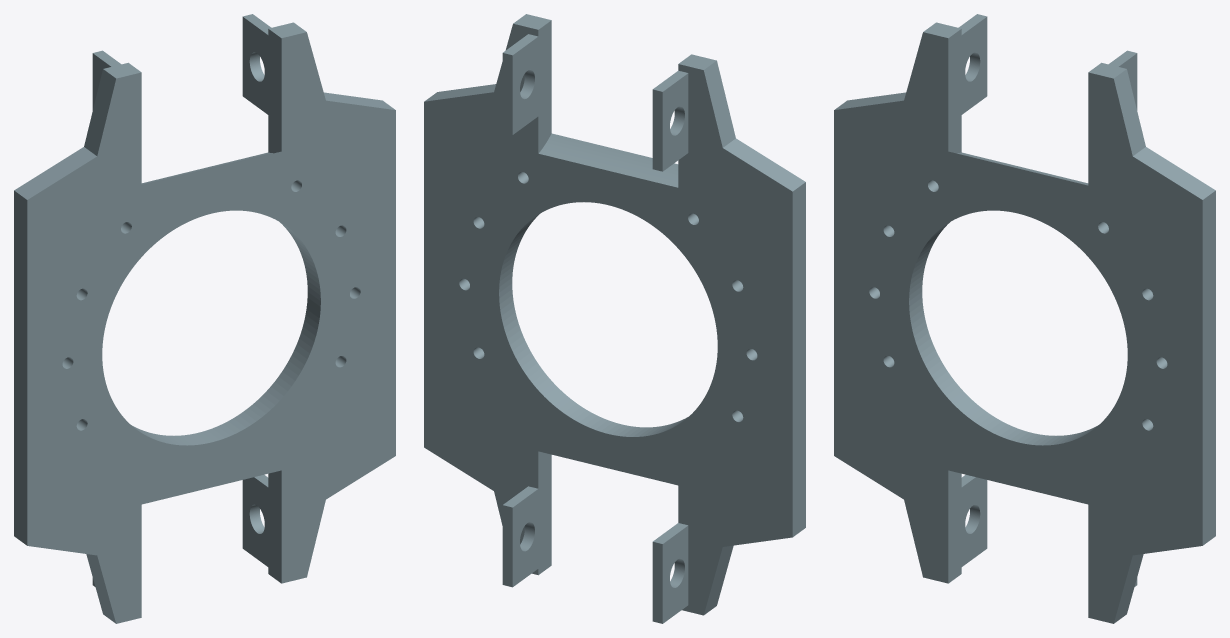
File: upright_WD220_C02_R04.glb
3 renders of one model, left to right at view 1: azimuth 30°, elevation 25°; view 2: azimuth 150°, elevation 25°; view 3: azimuth 330°, elevation 25°, orthographic.
Visible parts, largest first — view 1: upright_WD220_C02_R04; view 2: upright_WD220_C02_R04; view 3: upright_WD220_C02_R04.
Boxes of the visible parts, x1=… form: upright_WD220_C02_R04: x1=14, y1=14, x2=395, y2=623; upright_WD220_C02_R04: x1=424, y1=14, x2=805, y2=623; upright_WD220_C02_R04: x1=834, y1=14, x2=1215, y2=623.
Size of the model in its own units: 0.29 by 0.41 by 0.053.
